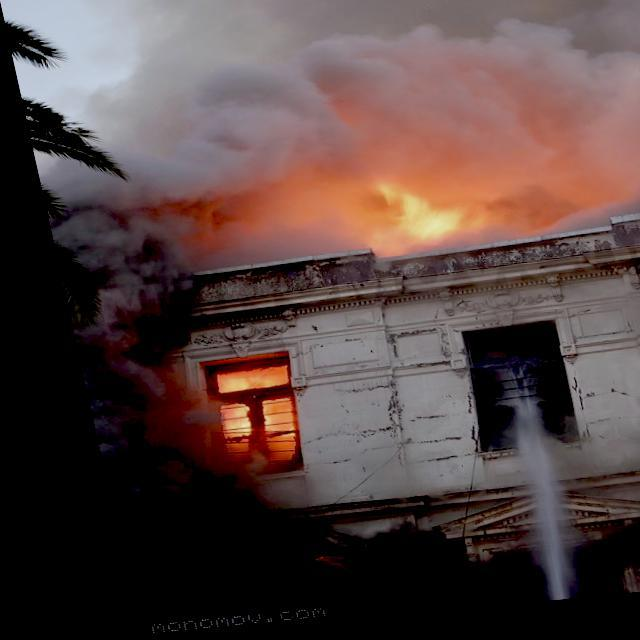Fire: (321, 174, 487, 264), (184, 364, 286, 469)
